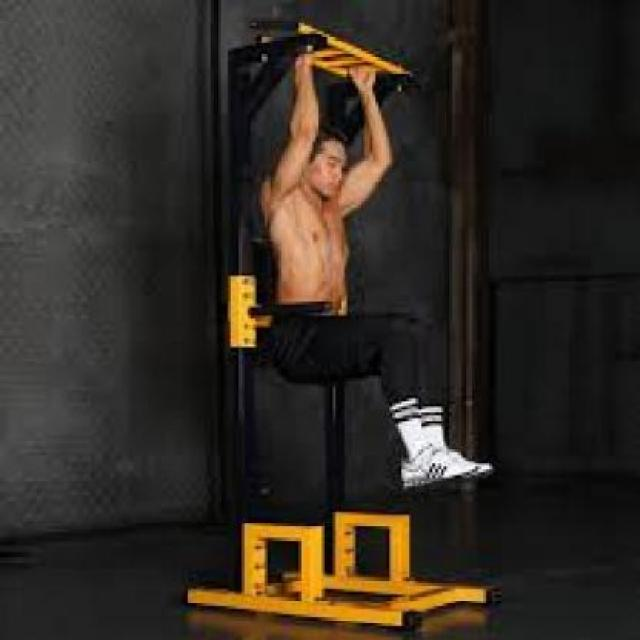chinning dipping: (177, 17, 505, 630)
